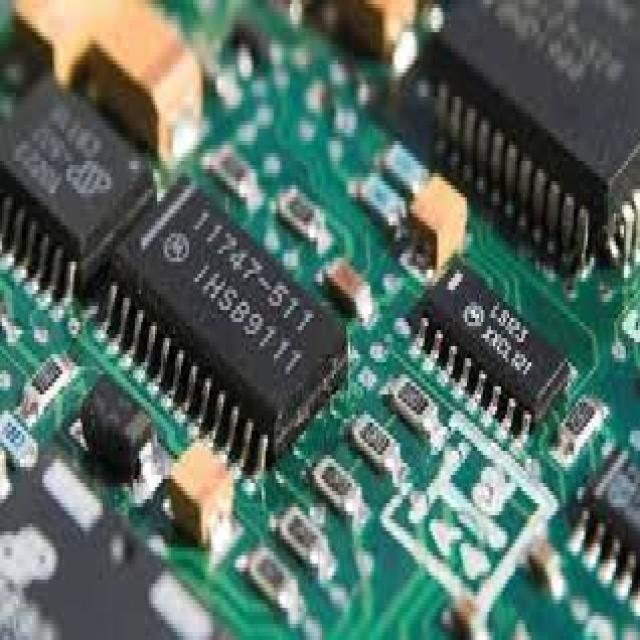pcb: (0, 0, 636, 636), (386, 0, 638, 278)
